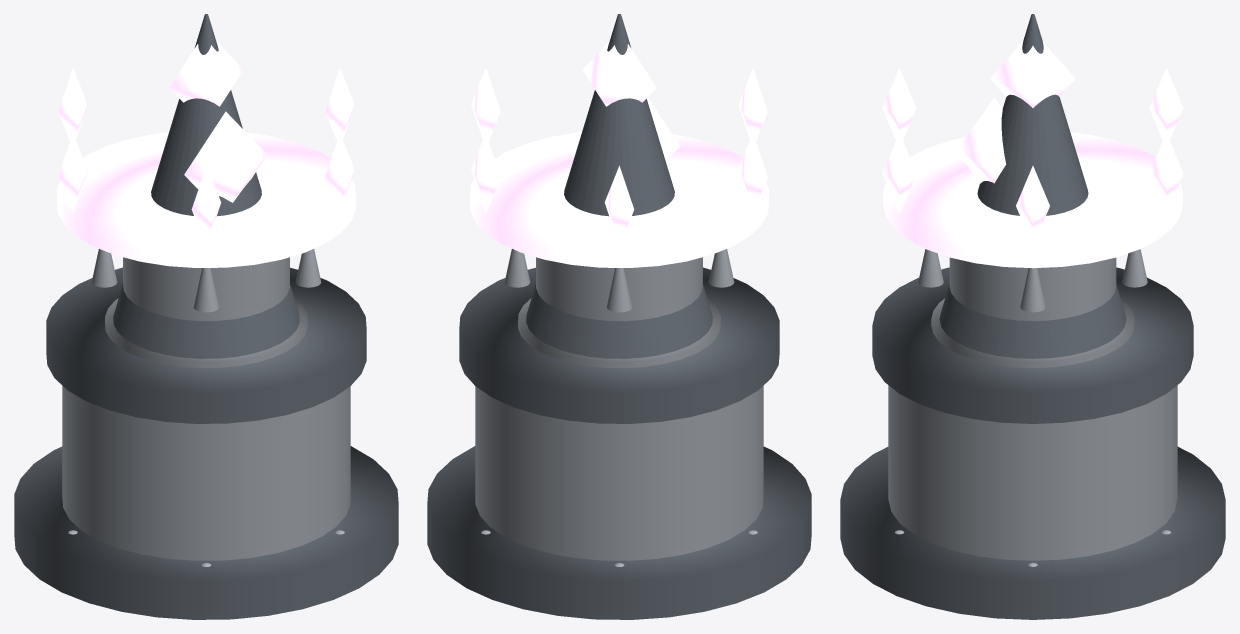
Rendered from void.glb.
The picture shows the model from 3 angles, left to right: view 1: azimuth 30°, elevation 25°; view 2: azimuth 150°, elevation 25°; view 3: azimuth 270°, elevation 25°; orthographic projection.
Parts seen in each view (by area): view 1: base, footing, baseCollar, spinRing, obelisk, shaft, spinCrystal, VoidCrown, lowerTrim, VoidShard2, VoidShard1, VoidShard3 (+5 smaller); view 2: base, footing, baseCollar, spinRing, obelisk, shaft, VoidCrown, lowerTrim, VoidShard4, VoidShard3, VoidShard5, VoidShard0 (+5 smaller); view 3: base, footing, baseCollar, spinRing, obelisk, shaft, VoidCrown, lowerTrim, spinCrystal, VoidShard1, VoidShard5, VoidShard0 (+5 smaller).
Part boxes in pixels (x1,y1,x2,y2): base: [62, 386, 350, 560]; footing: [14, 446, 398, 619]; baseCollar: [46, 267, 366, 423]; spinRing: [57, 132, 355, 267]; obelisk: [113, 14, 299, 358]; shaft: [123, 257, 289, 321]; spinCrystal: [184, 111, 267, 202]; VoidCrown: [169, 41, 243, 106]; lowerTrim: [105, 298, 307, 367]; VoidShard2: [191, 165, 221, 246]; VoidShard1: [325, 133, 354, 213]; VoidShard3: [58, 133, 87, 213]; base: [475, 386, 763, 560]; footing: [427, 446, 811, 619]; baseCollar: [459, 267, 779, 423]; spinRing: [470, 132, 768, 267]; obelisk: [526, 14, 712, 358]; shaft: [536, 257, 702, 321]; VoidCrown: [582, 41, 656, 106]; lowerTrim: [518, 298, 720, 367]; VoidShard4: [604, 165, 634, 246]; VoidShard3: [738, 133, 767, 213]; VoidShard5: [471, 133, 500, 213]; VoidShard0: [471, 68, 500, 140]; base: [888, 385, 1177, 560]; footing: [840, 447, 1225, 619]; baseCollar: [872, 267, 1193, 423]; spinRing: [883, 132, 1182, 268]; obelisk: [939, 14, 1126, 358]; shaft: [949, 257, 1116, 320]; VoidCrown: [990, 41, 1075, 107]; lowerTrim: [931, 298, 1134, 367]; spinCrystal: [957, 97, 1006, 183]; VoidShard1: [882, 133, 916, 213]; VoidShard5: [1149, 133, 1183, 213]; VoidShard0: [1016, 166, 1049, 245].
Size of the model in its own units: 1.8 by 2.7 by 1.8.
